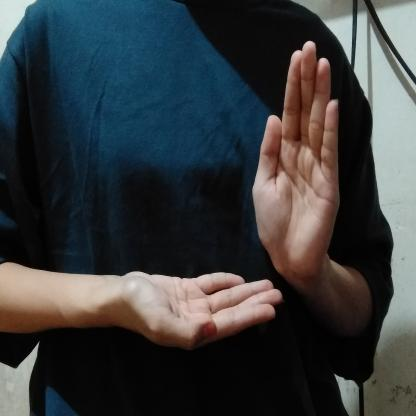hello: (107, 36, 353, 364)
